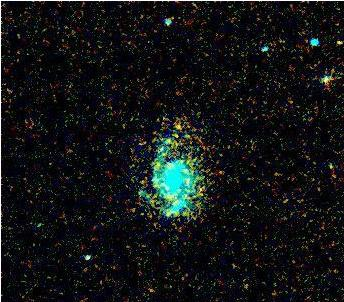star: (326, 26, 344, 56)
